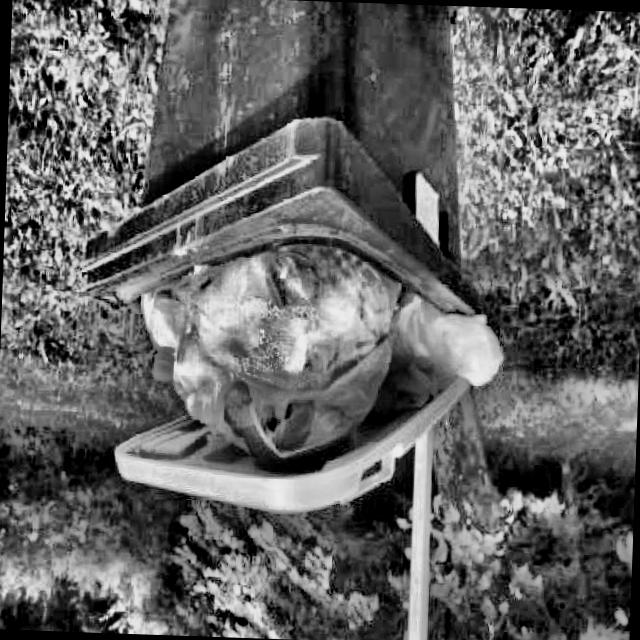Dustbin: (84, 0, 505, 346)
